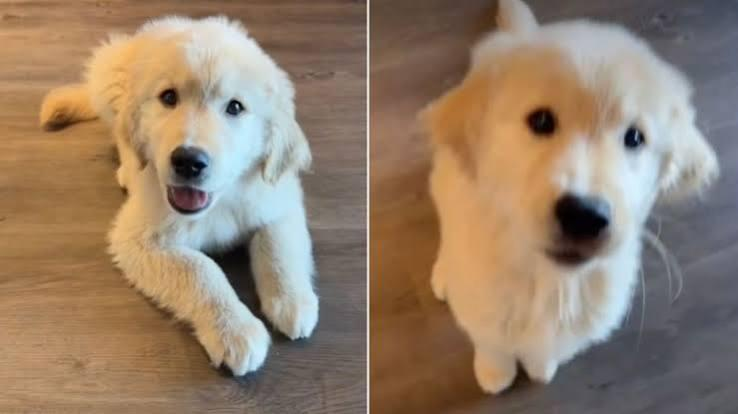puppy-dog: (410, 1, 721, 397), (34, 18, 326, 377)
